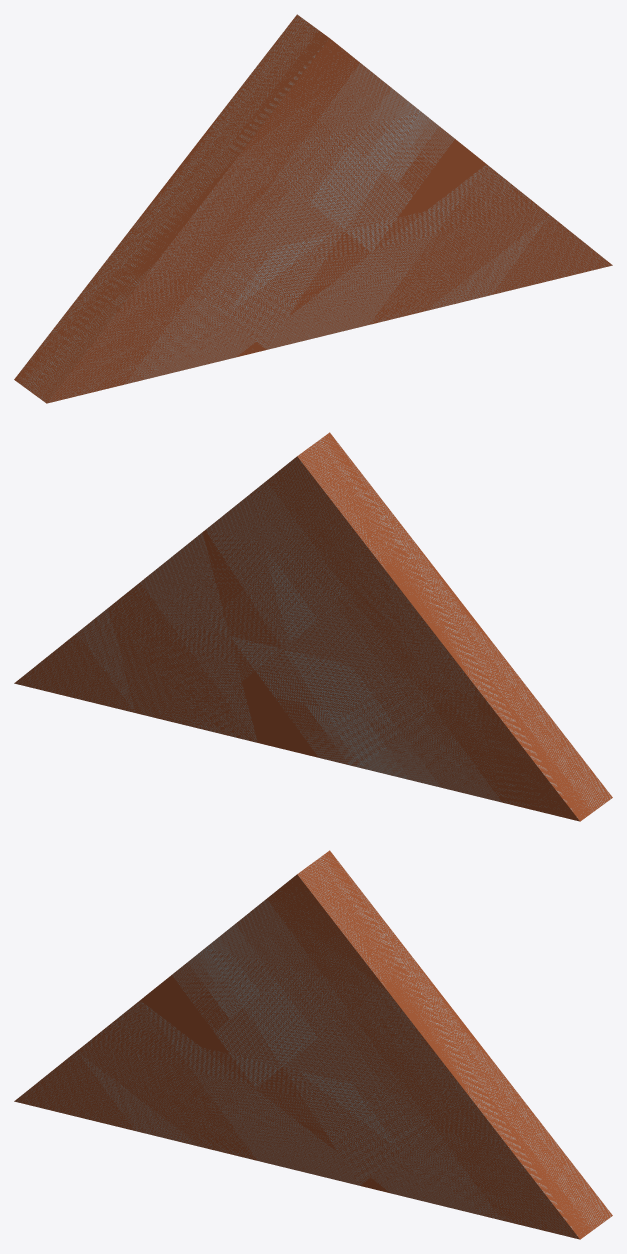
Rendered from roof_gable_middle.fbx.
3 renders of one model, top to bottom at view 1: azimuth 30°, elevation 25°; view 2: azimuth 150°, elevation 25°; view 3: azimuth 330°, elevation 25°, orthographic.
Parts seen in each view (by area): view 1: Mesh1_Component_2_1 Model; view 2: Mesh1_Component_2_1 Model; view 3: Mesh1_Component_2_1 Model.
Part boxes in pixels (x1,y1,x2,y2): Mesh1_Component_2_1 Model: (14, 14, 612, 403); Mesh1_Component_2_1 Model: (14, 432, 612, 821); Mesh1_Component_2_1 Model: (14, 850, 612, 1239).
Bounding box in the file's own units: 1 × 0.5 × 0.1.
